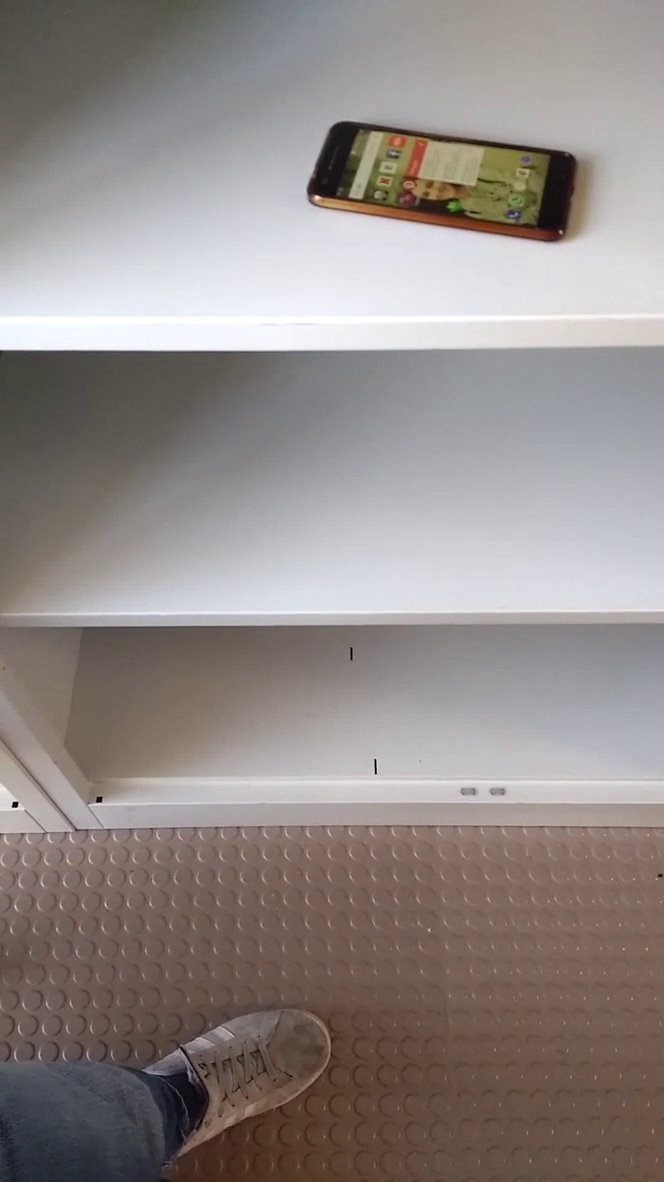phone: (293, 105, 594, 255)
